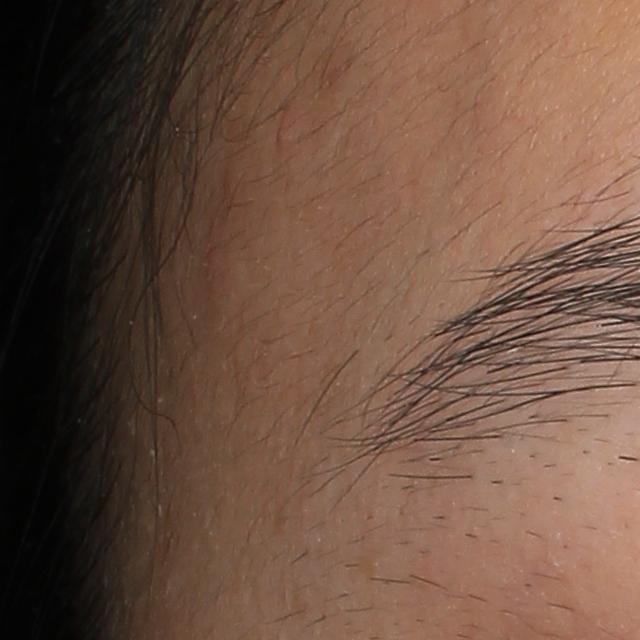papule: (273, 122, 293, 147)
